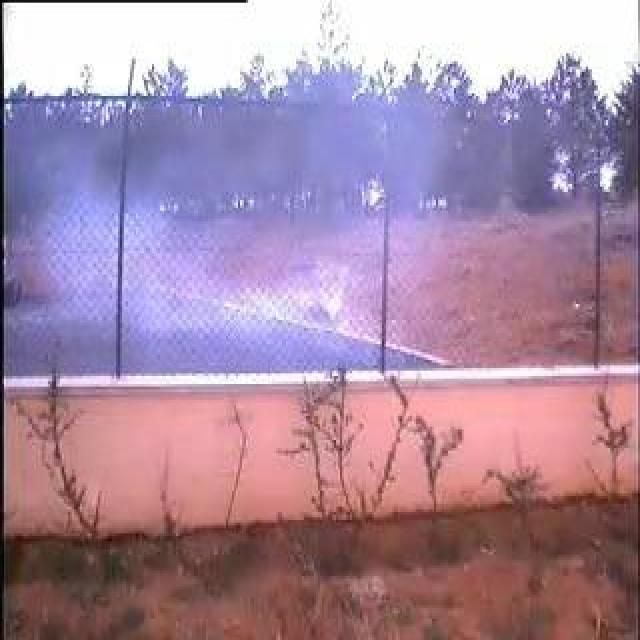Smoke: (122, 97, 388, 375)
